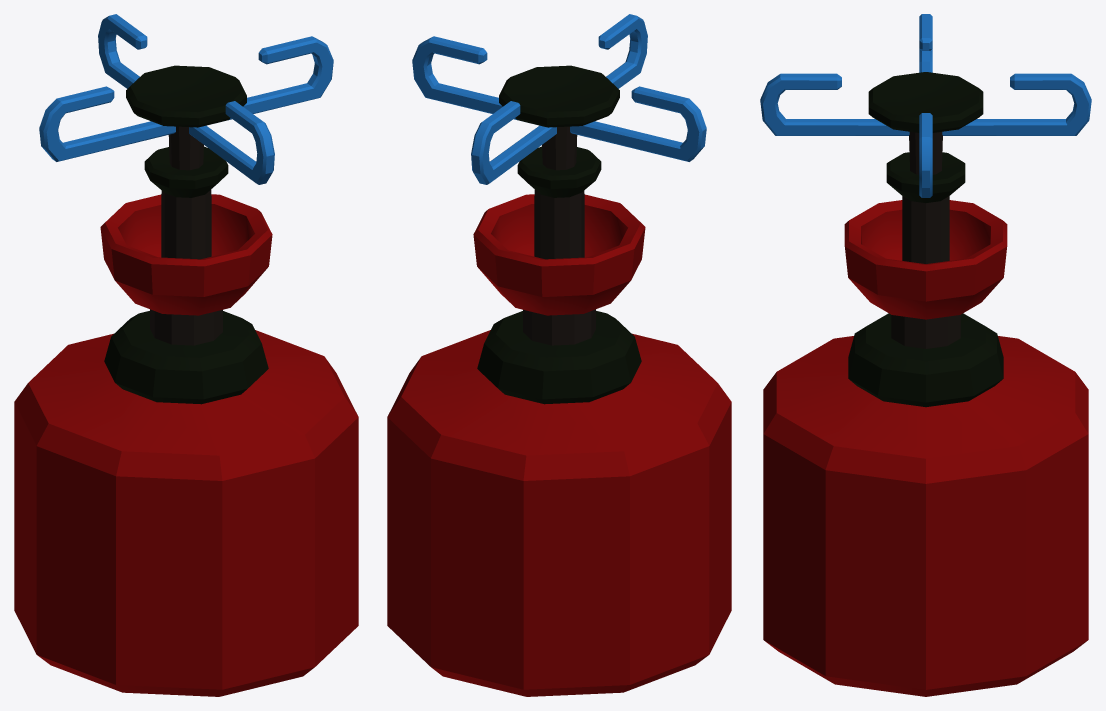
The model's file is Warmer.FBX.
3 renders of one model, left to right at view 1: azimuth 30°, elevation 25°; view 2: azimuth 150°, elevation 25°; view 3: azimuth 270°, elevation 25°, orthographic.
Visible parts, largest first — view 1: Warmer; view 2: Warmer; view 3: Warmer.
Part boxes in pixels (x1,y1,x2,y2): Warmer: [14, 14, 358, 696]; Warmer: [387, 14, 731, 696]; Warmer: [760, 14, 1091, 696].
Bounding box in the file's own units: 599 × 580 × 1075.
